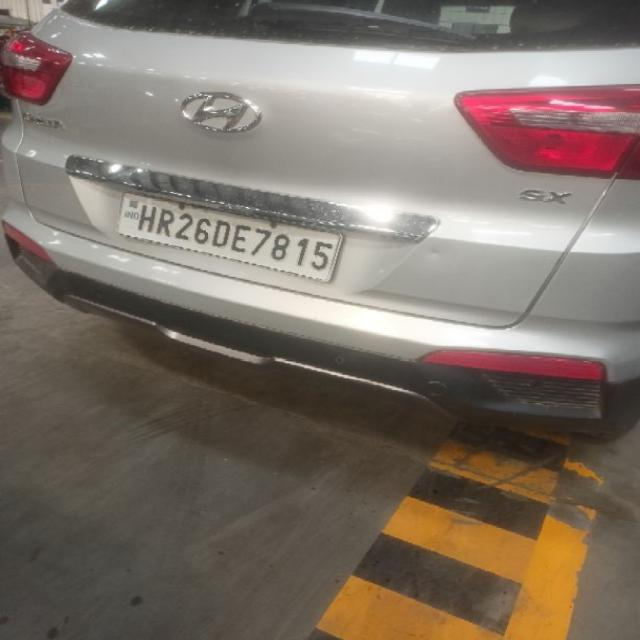license_plate: (115, 190, 344, 284)
